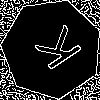K: (26, 24, 83, 78)
